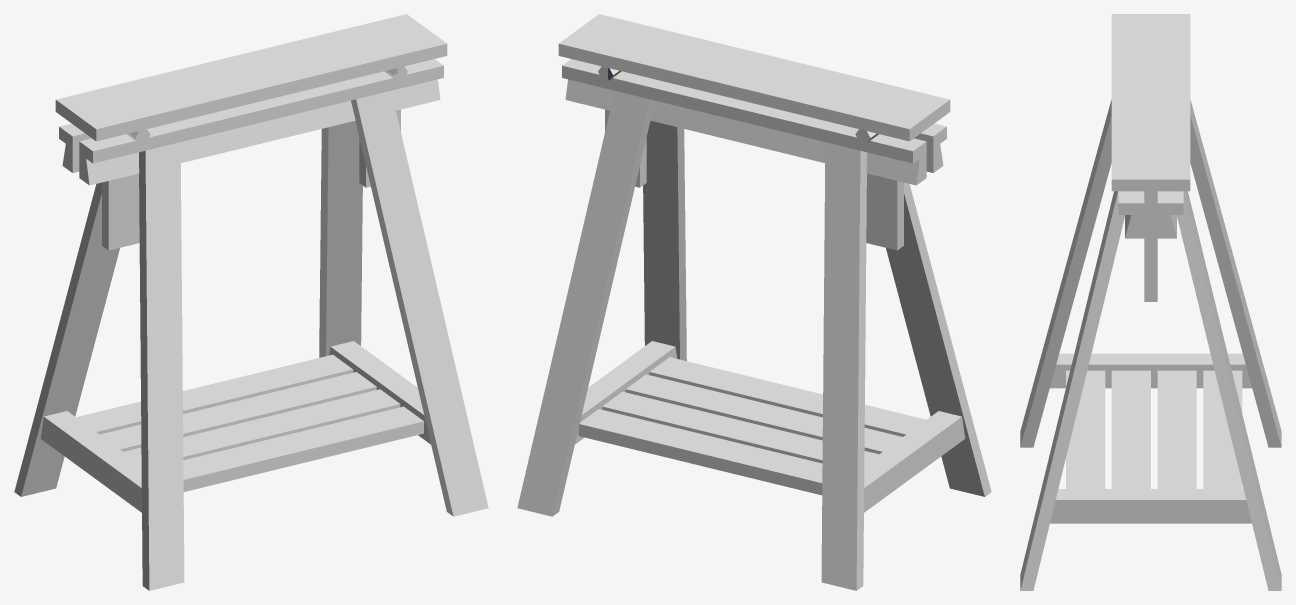
3 renders of one model, left to right at view 1: azimuth 30°, elevation 25°; view 2: azimuth 150°, elevation 25°; view 3: azimuth 270°, elevation 25°, orthographic. The views are drawn at different scales.
Visible parts, largest first — view 1: cuboid (×14); view 2: cuboid (×14); view 3: cuboid (×14).
Boxes of the visible parts, x1,y1,x2,y2 form: cuboid (×14): (14,14,488,590); cuboid (×14): (517,14,991,590); cuboid (×14): (1020,14,1281,590).
Size of the model in its own units: 0.9375 by 1.09 by 0.625.
Materials: 1 (1 with a texture image).
